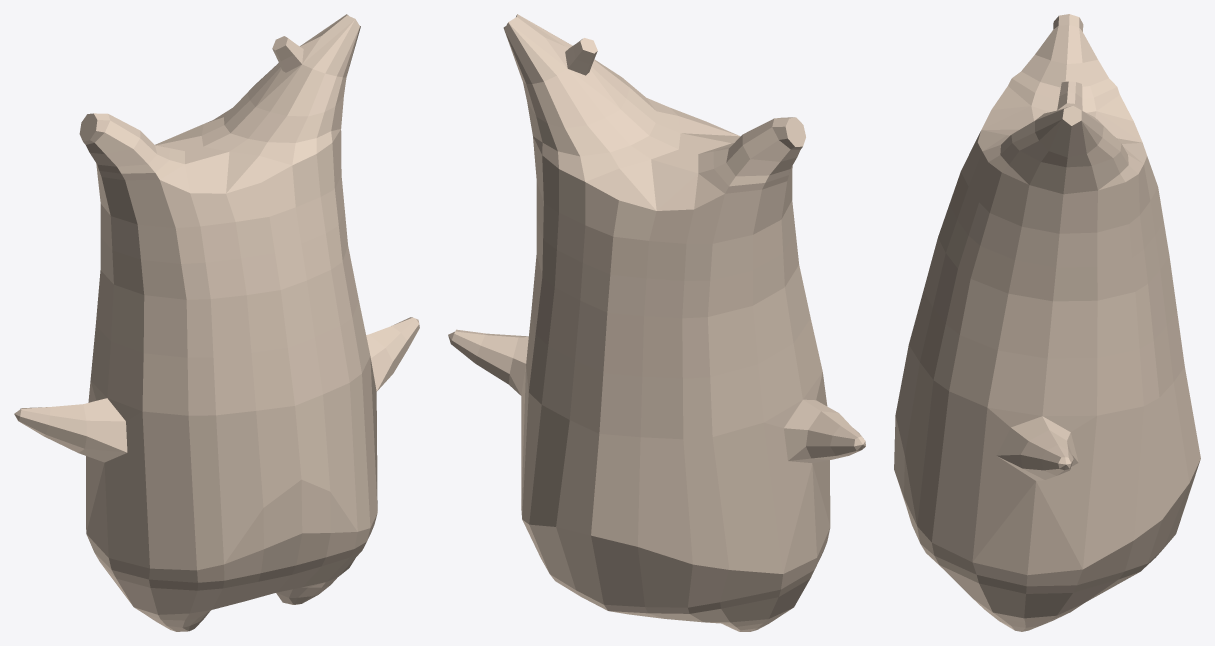
Rendered from frame_0058.obj.
3 renders of one model, left to right at view 1: azimuth 30°, elevation 25°; view 2: azimuth 150°, elevation 25°; view 3: azimuth 270°, elevation 25°, orthographic. The views are drawn at different scales.
Parts seen in each view (by area): view 1: korok; view 2: korok; view 3: korok.
Part boxes in pixels (x1,y1,x2,y2): korok: (14,14,419,631); korok: (448,14,865,631); korok: (894,14,1200,631).
Bounding box in the file's own units: 1.62 × 2.15 × 1.06.
